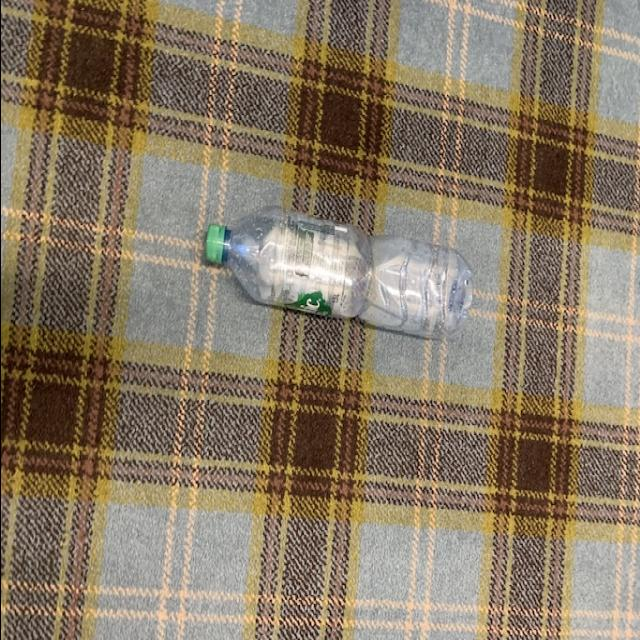litter: (202, 204, 472, 346)
